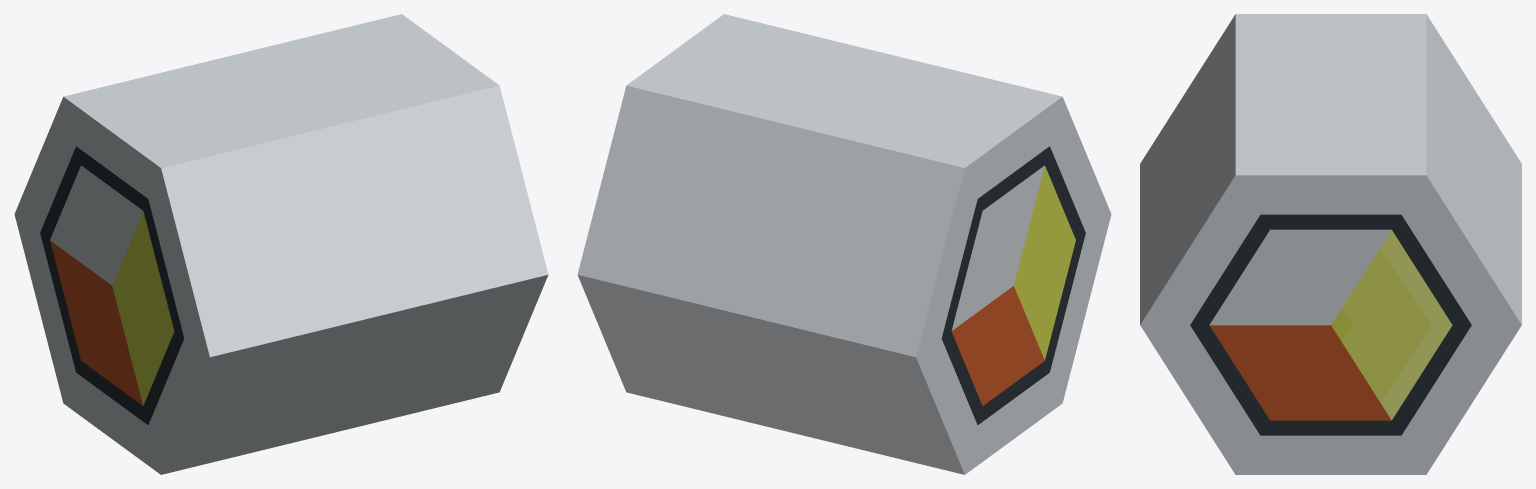
Rendered from California.obj.
3 renders of one model, left to right at view 1: azimuth 30°, elevation 25°; view 2: azimuth 150°, elevation 25°; view 3: azimuth 270°, elevation 25°, orthographic. The views are drawn at different scales.
Parts seen in each view (by area): view 1: Cylinder.048; view 2: Cylinder.048; view 3: Cylinder.048.
Boxes of the visible parts, x1,y1,x2,y2 form: Cylinder.048: (14,14,548,474); Cylinder.048: (577,14,1111,474); Cylinder.048: (1140,14,1521,474).
Bounding box in the file's own units: 2 × 1.73 × 2.
1 material, 1 textured.
